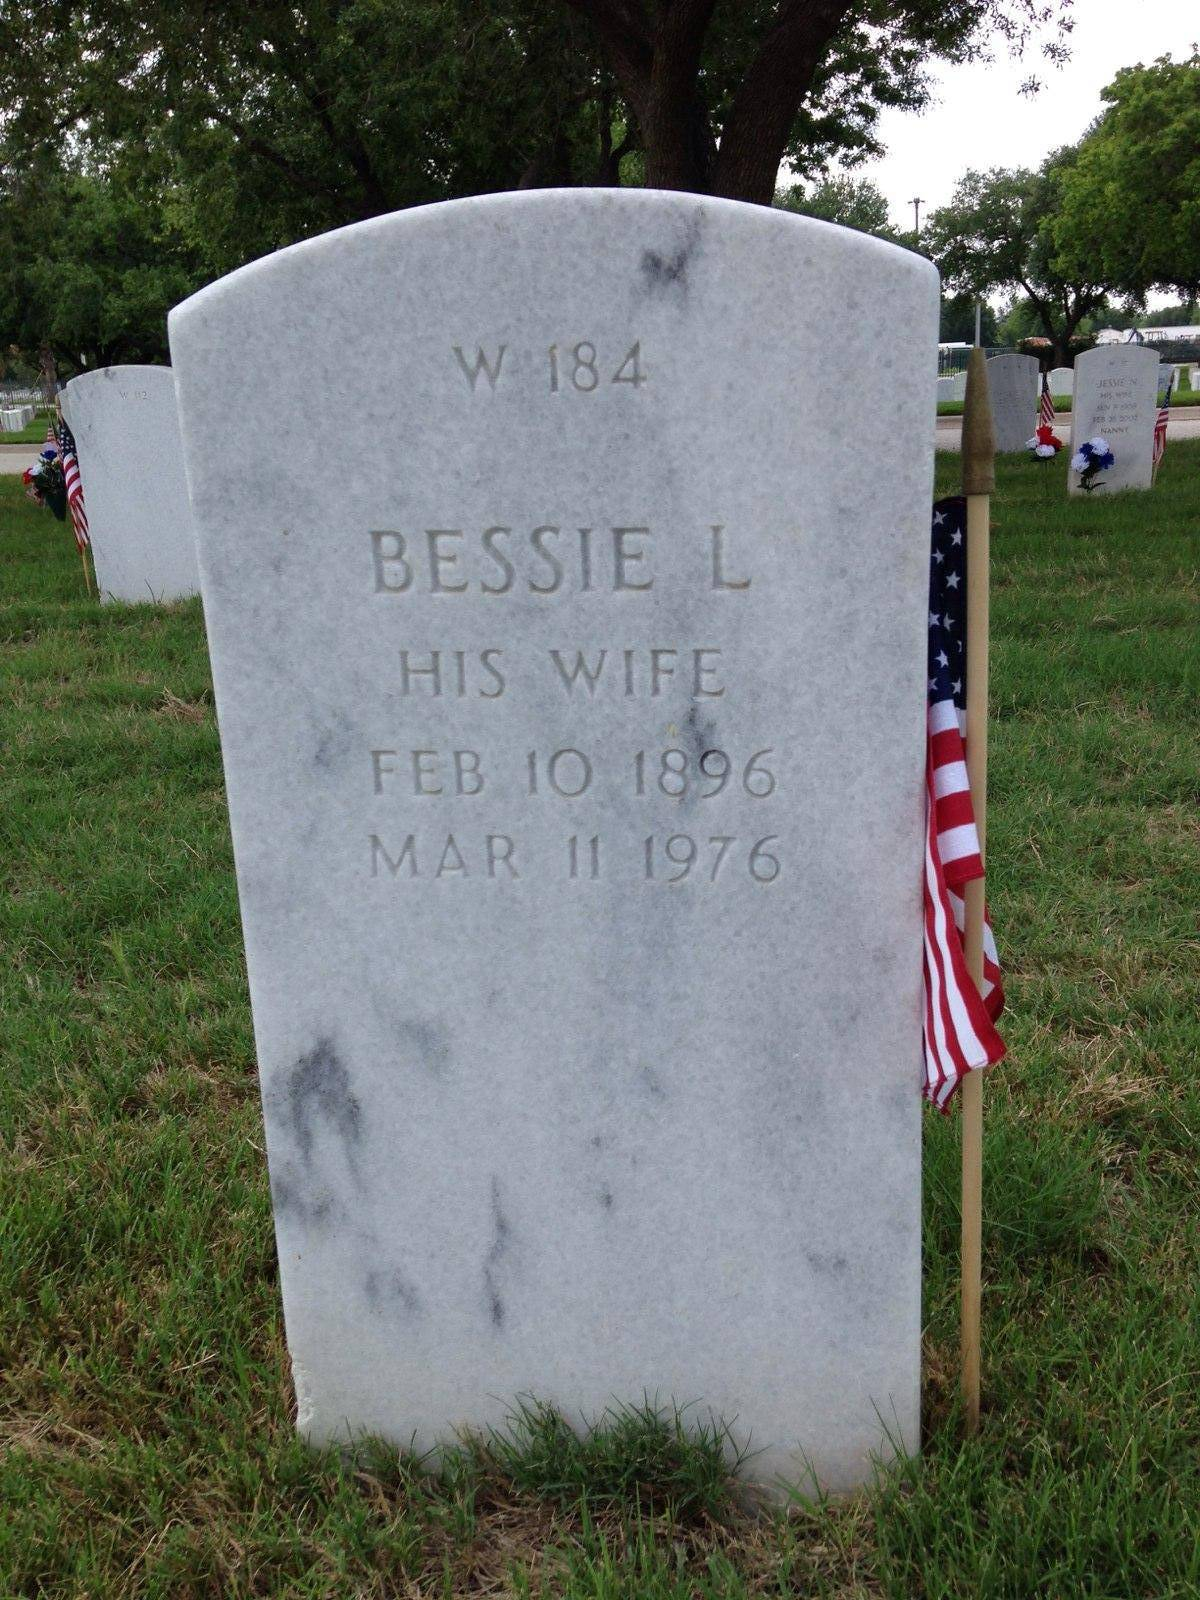military: (147, 173, 972, 1487)
